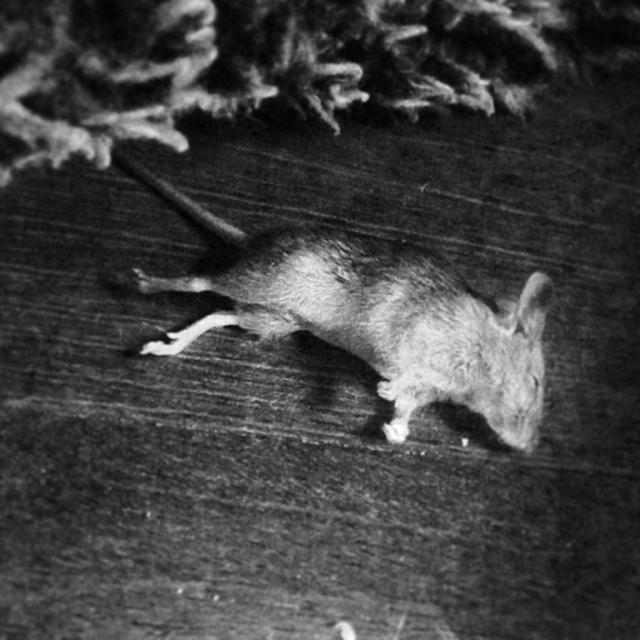rat: (116, 139, 556, 451)
